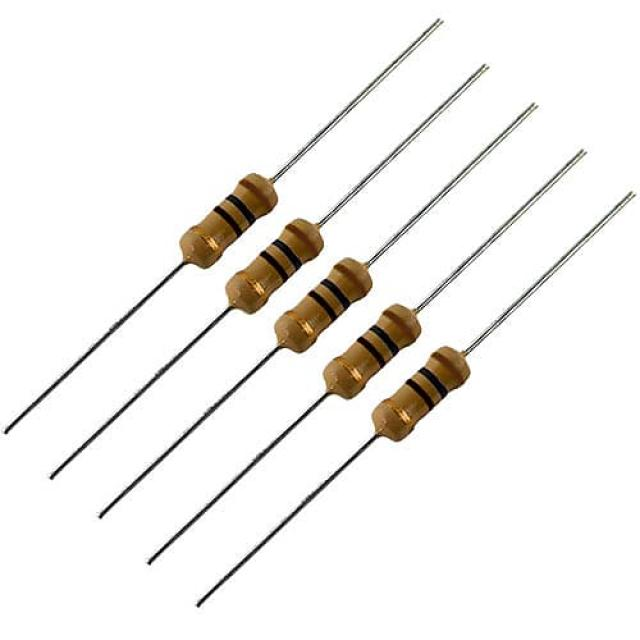Resistor: (275, 256, 373, 351), (325, 302, 421, 398), (376, 345, 471, 441), (226, 217, 322, 312), (181, 172, 276, 266)
